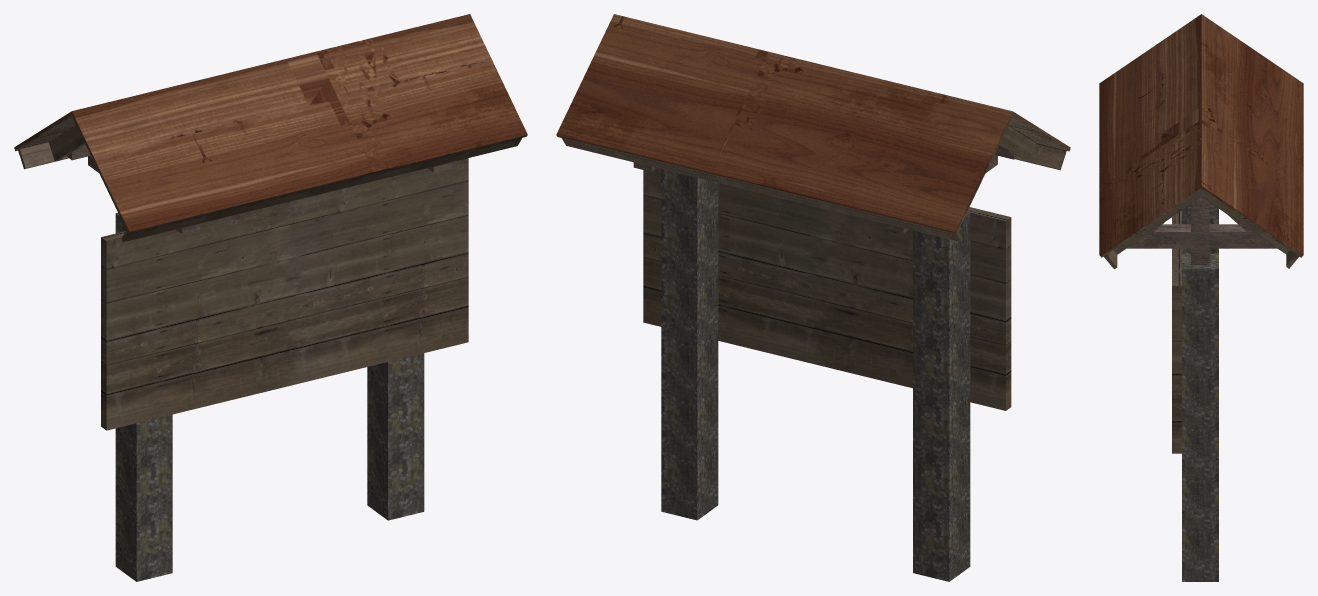
3 views of the same model, side by side, from view 1: azimuth 30°, elevation 25°; view 2: azimuth 150°, elevation 25°; view 3: azimuth 270°, elevation 25° (orthographic). The views are drawn at different scales.
Visible parts, largest first — view 1: G-Sign Name.001_0, G-Roof.001_2, G-Pole.001_1, G-Roof Floor_4; view 2: G-Roof.001_2, G-Sign Name.001_0, G-Pole.001_1, G-Roof Floor_4; view 3: G-Roof.001_2, G-Pole.001_1, G-Roof Support.001_3, G-Sign Name.001_0, G-Roof Floor_4.
Boxes of the visible parts, x1,y1,x2,y2 form: G-Sign Name.001_0: (101,158,468,430); G-Roof.001_2: (14,14,527,232); G-Pole.001_1: (115,212,424,581); G-Roof Floor_4: (15,113,526,242); G-Roof.001_2: (556,14,1070,233); G-Sign Name.001_0: (643,168,1011,410); G-Pole.001_1: (661,169,970,581); G-Roof Floor_4: (557,114,1069,242); G-Roof.001_2: (1099,14,1303,256); G-Pole.001_1: (1182,203,1218,581); G-Roof Support.001_3: (1127,197,1276,265); G-Sign Name.001_0: (1172,210,1181,453); G-Roof Floor_4: (1100,188,1302,269).
Bounding box in the file's own units: 2.2 × 2.51 × 1.1.
